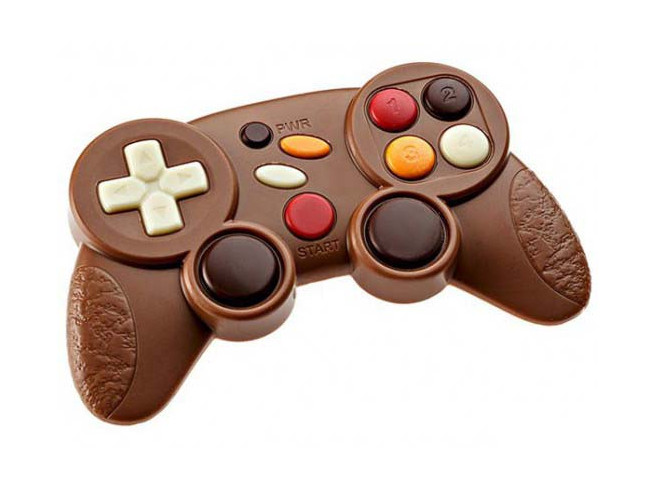controller: (64, 62, 592, 426)
